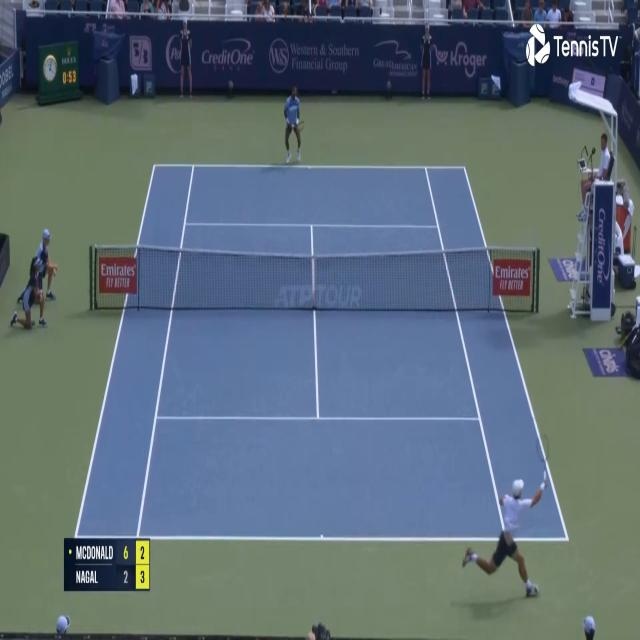tennis-player: (461, 477, 547, 609), (282, 83, 304, 164)
